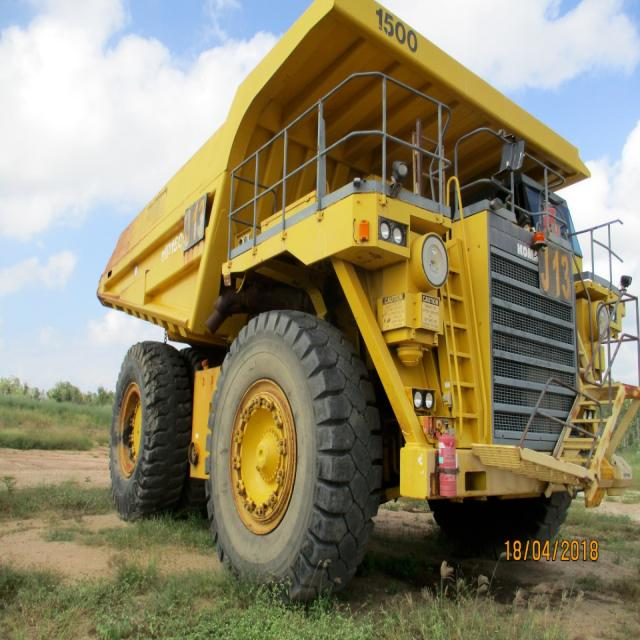dump_truck: (76, 1, 639, 602)
